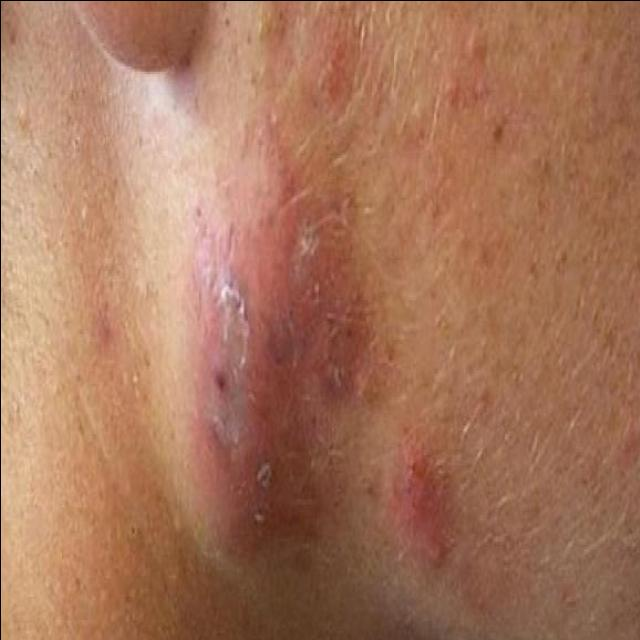nodule: (168, 119, 342, 619)
